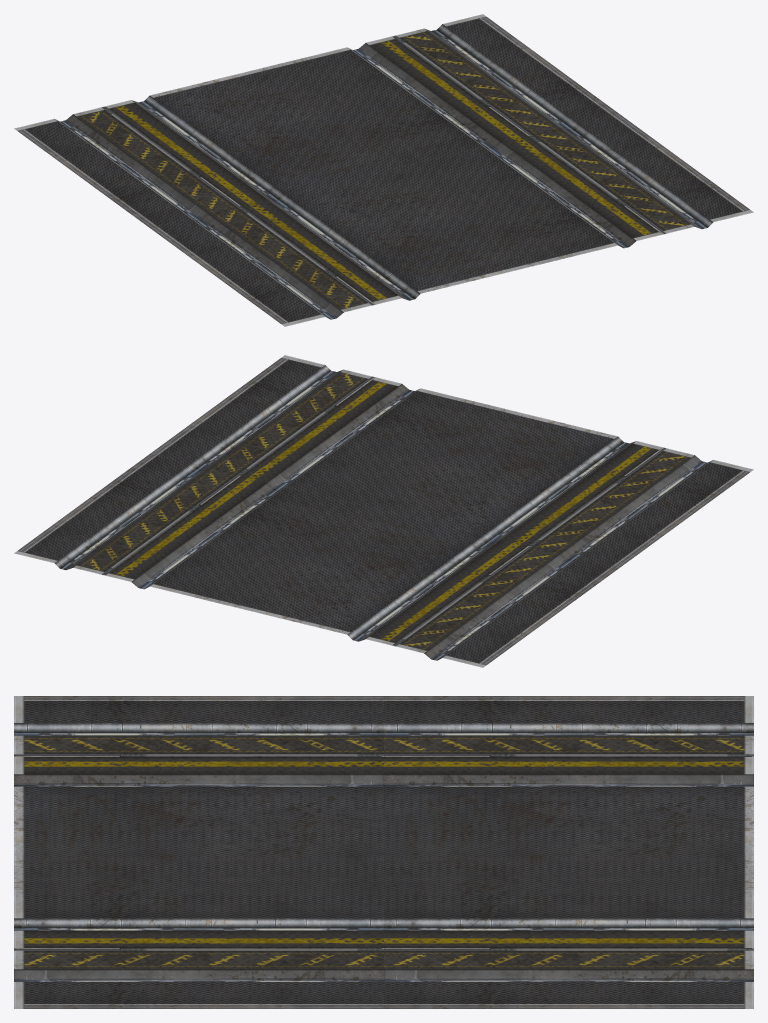
The model's file is Floor_C_5mts_03.fbx.
3 renders of one model, top to bottom at view 1: azimuth 30°, elevation 25°; view 2: azimuth 150°, elevation 25°; view 3: azimuth 270°, elevation 25°, orthographic. The views are drawn at different scales.
Visible parts, largest first — view 1: Floor_C_5mts_03; view 2: Floor_C_5mts_03; view 3: Floor_C_5mts_03.
Boxes of the visible parts, <box> form: Floor_C_5mts_03: <box>14,14,753,326</box>; Floor_C_5mts_03: <box>14,355,753,667</box>; Floor_C_5mts_03: <box>14,696,753,1008</box>.
Bounding box in the file's own units: 500 × 4.33 × 500.
1 material, 1 textured.
